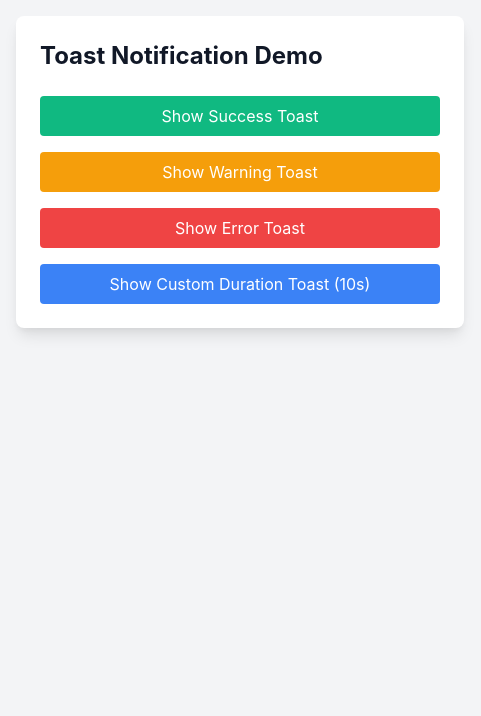
Test: ToastDemo › shows warning toast when warning button is clicked
This screenshot has width=481, height=716.
Click the button "Show Warning Toast": {"x": 240, "y": 172} x1=40 y1=152 x2=440 y2=192
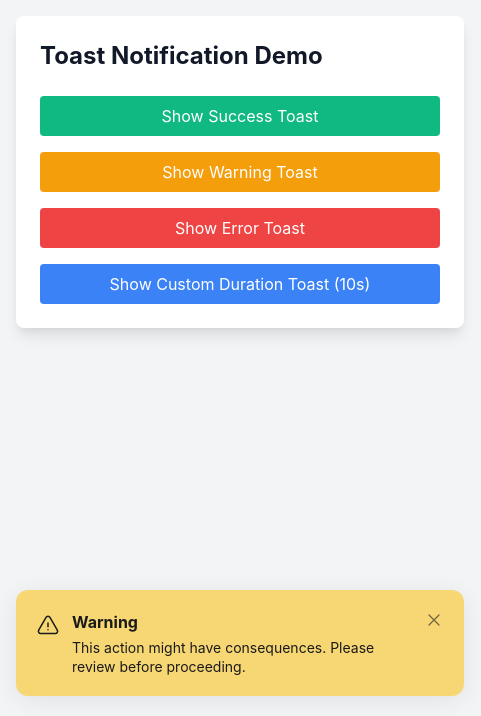
Expected: the text "This action might have consequences. Please review before proceeding." is shown, x1=72 y1=638 x2=396 y2=676
